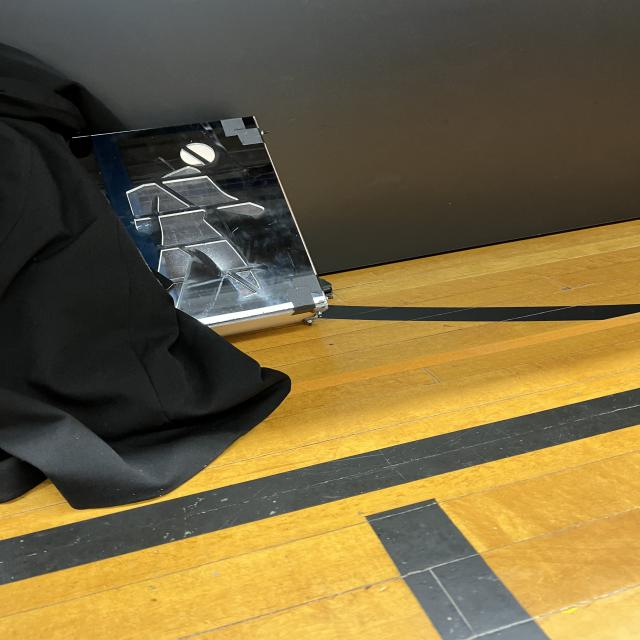go: (77, 122, 331, 315)
